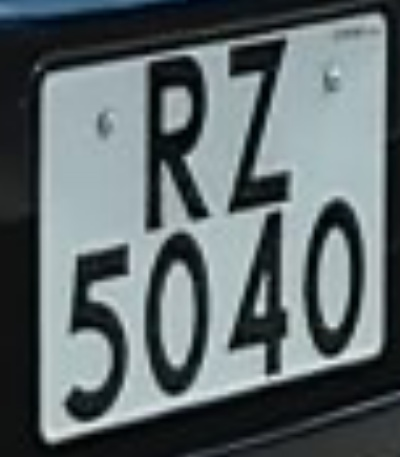0: (139, 225, 231, 411), (297, 190, 376, 363)
4: (223, 203, 300, 387)
5: (51, 233, 147, 441)
R: (130, 39, 220, 234)
Z: (218, 33, 308, 218)
